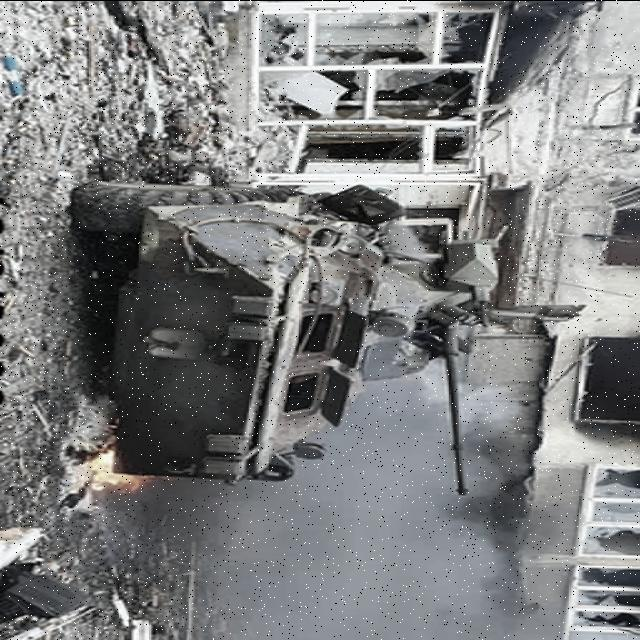APC-IFV: (56, 154, 526, 496)
